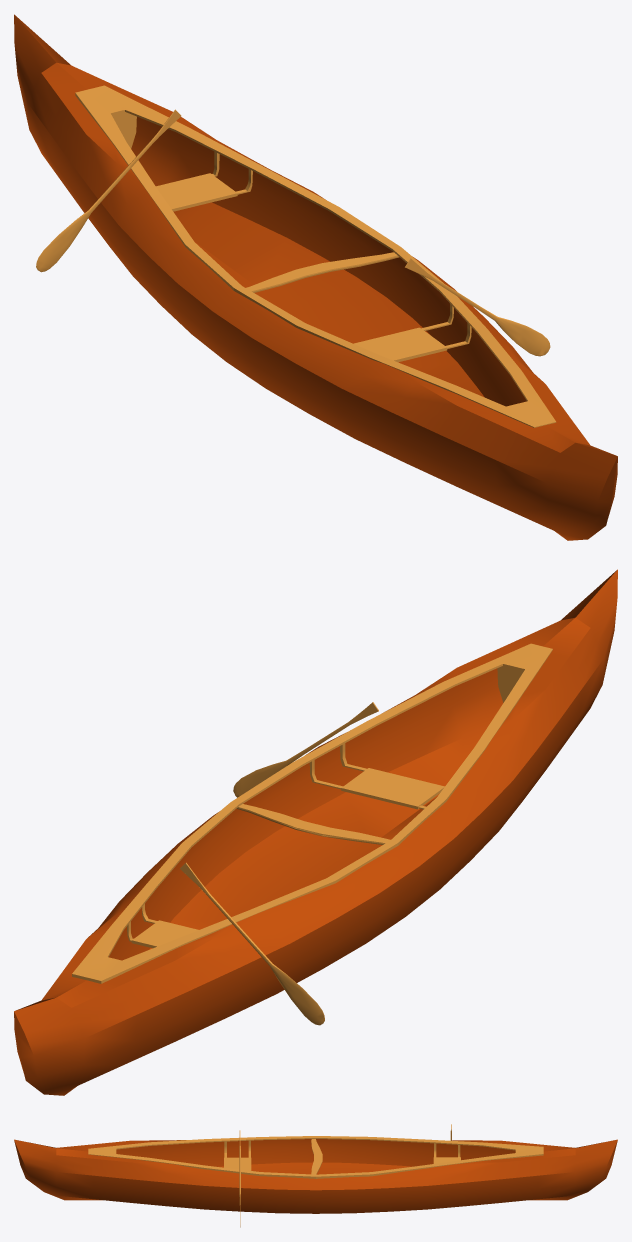
Rendered from Canoe.fbx.
3 renders of one model, top to bottom at view 1: azimuth 30°, elevation 25°; view 2: azimuth 150°, elevation 25°; view 3: azimuth 270°, elevation 25°, orthographic. The views are drawn at different scales.
Parts seen in each view (by area): view 1: Canoe, Canoe_Paddle, Canoe_Paddle_2; view 2: Canoe, Canoe_Paddle, Canoe_Paddle_2; view 3: Canoe, Canoe_Paddle_2.
Part boxes in pixels (bbox=[...]): Canoe: bbox=[14, 14, 617, 540]; Canoe_Paddle: bbox=[36, 109, 181, 272]; Canoe_Paddle_2: bbox=[405, 258, 550, 356]; Canoe: bbox=[14, 569, 617, 1095]; Canoe_Paddle: bbox=[180, 862, 324, 1025]; Canoe_Paddle_2: bbox=[233, 702, 378, 797]; Canoe: bbox=[14, 1136, 617, 1213]; Canoe_Paddle_2: bbox=[239, 1130, 240, 1227].
Bounding box in the file's own units: 264 × 124 × 911.
1 material, 1 textured.
